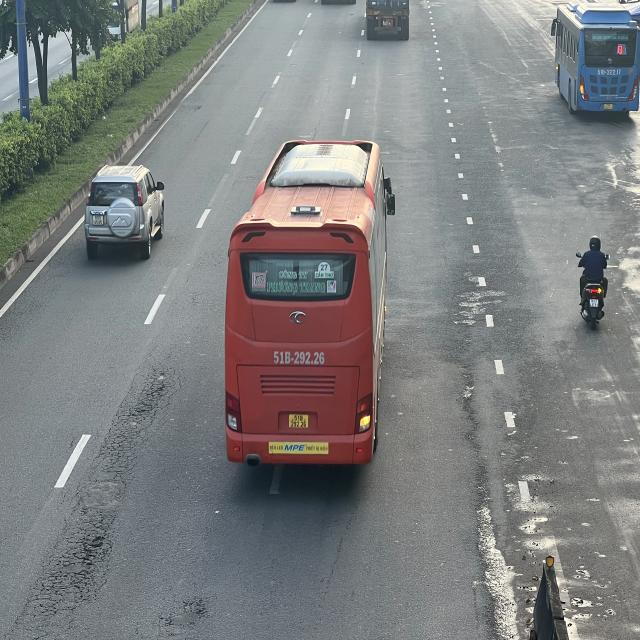car: (86, 166, 168, 260)
coach: (222, 138, 392, 469), (551, 4, 639, 116)
container: (367, 0, 411, 40)
